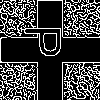P: (25, 25, 70, 58)
